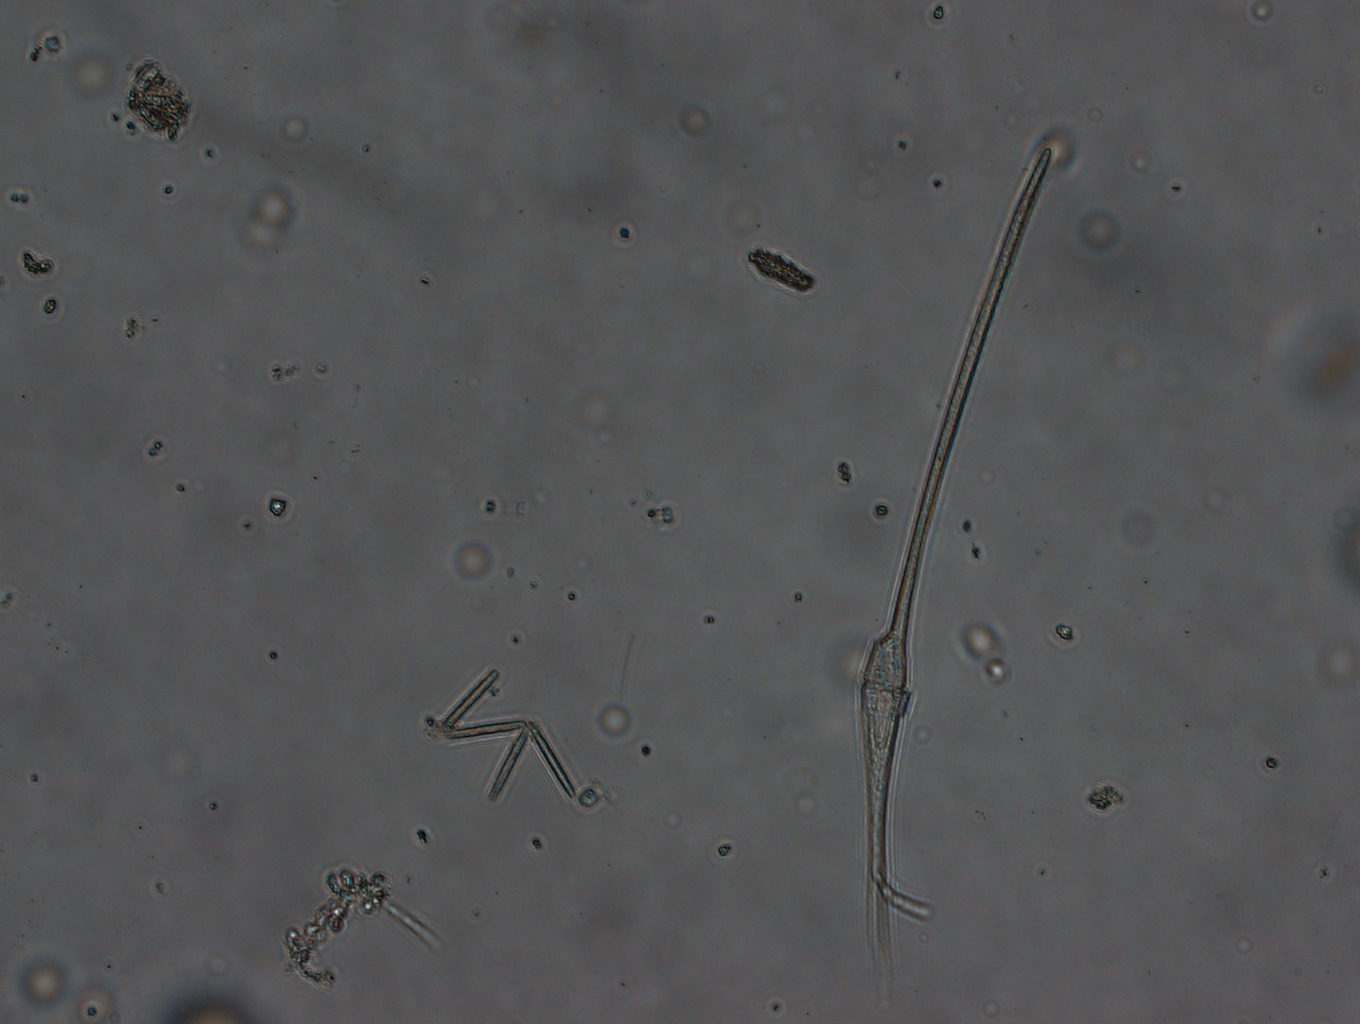ceratium fusus: (850, 124, 1080, 1004)
thalassionema nitzschioides: (436, 669, 585, 805)
